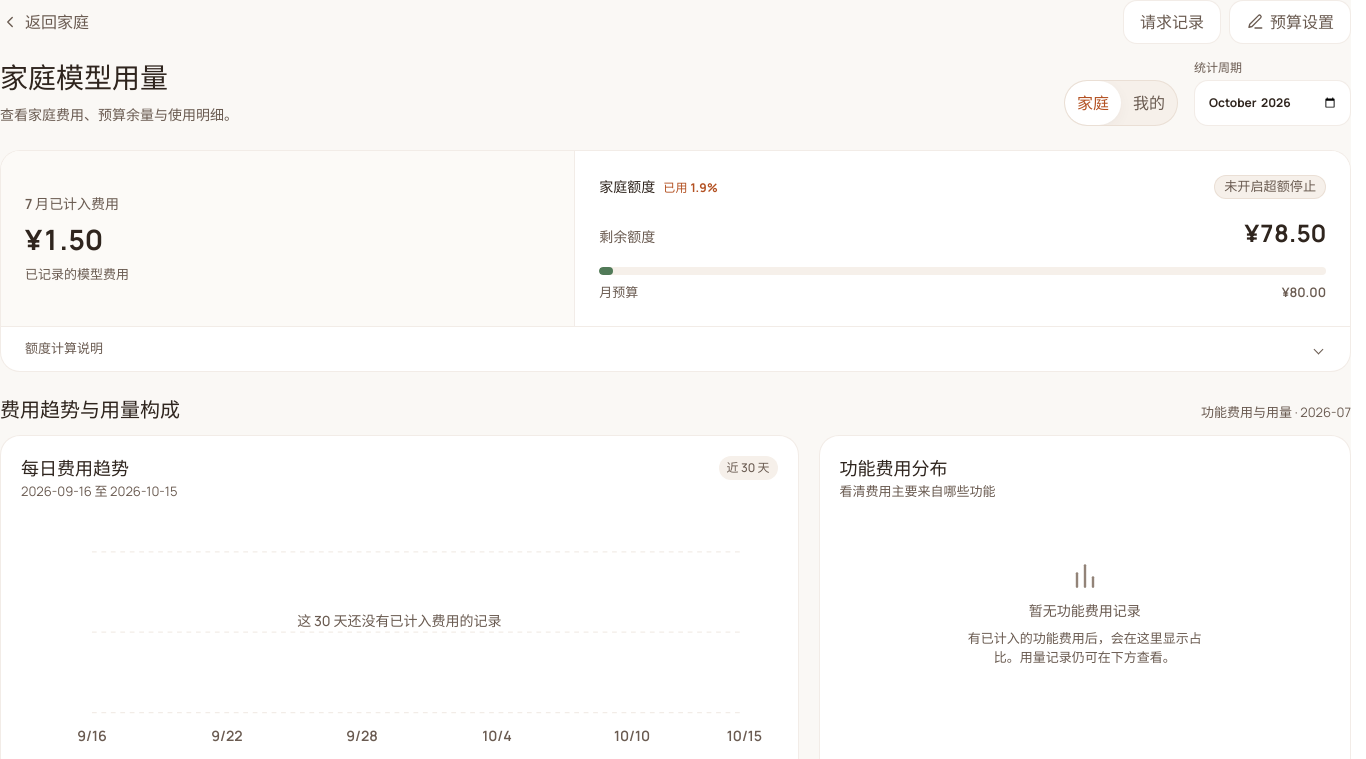
Test: ModelUsagePolicySettings › keeps the settings surface recoverable when the policy query fails
Check: the heading "家庭模型用量" is shown, box [0,58,168,96]
Click the button "预算设置" at (1290, 22), box [1229,0,1351,44]
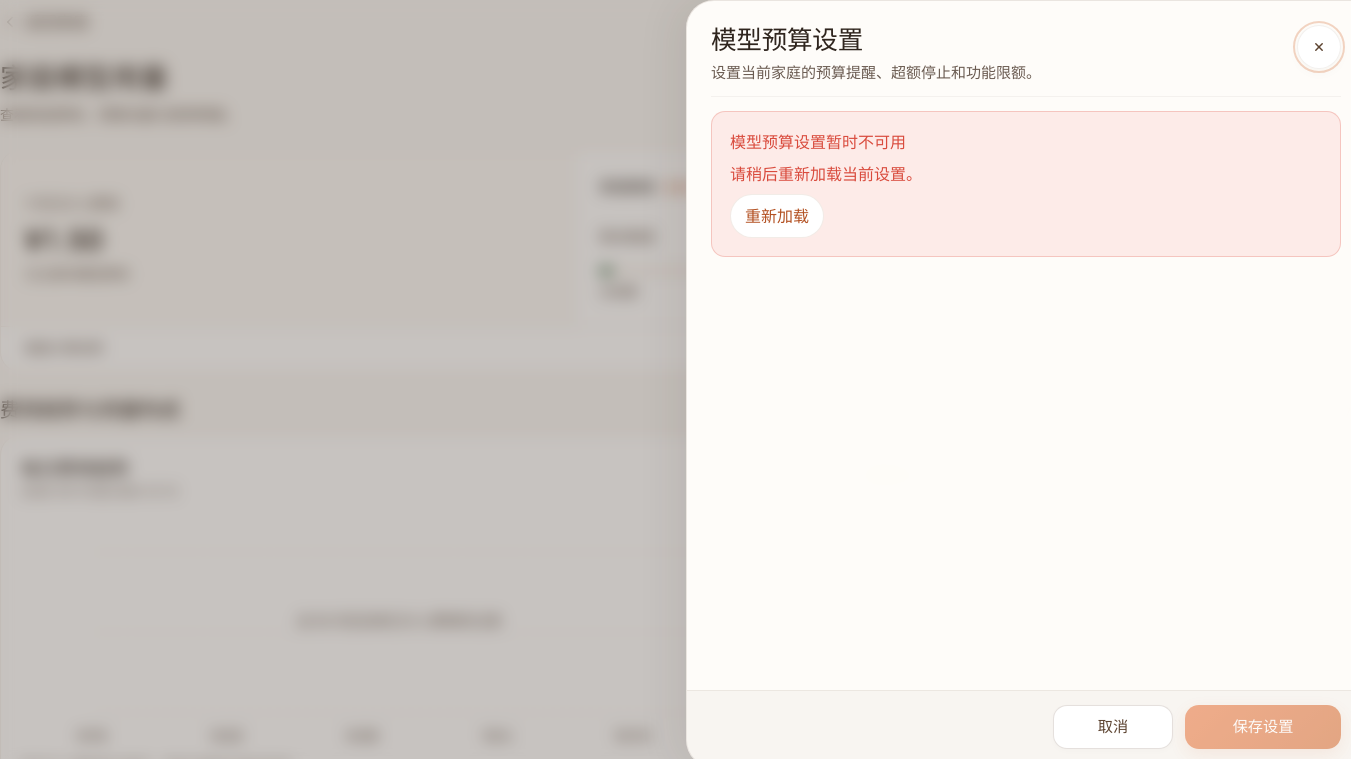
Check: the text "模型预算设置暂时不可用" is shown, box [730,131,906,153]
Click the button "重新加载" at (777, 216), box [730,194,824,238]
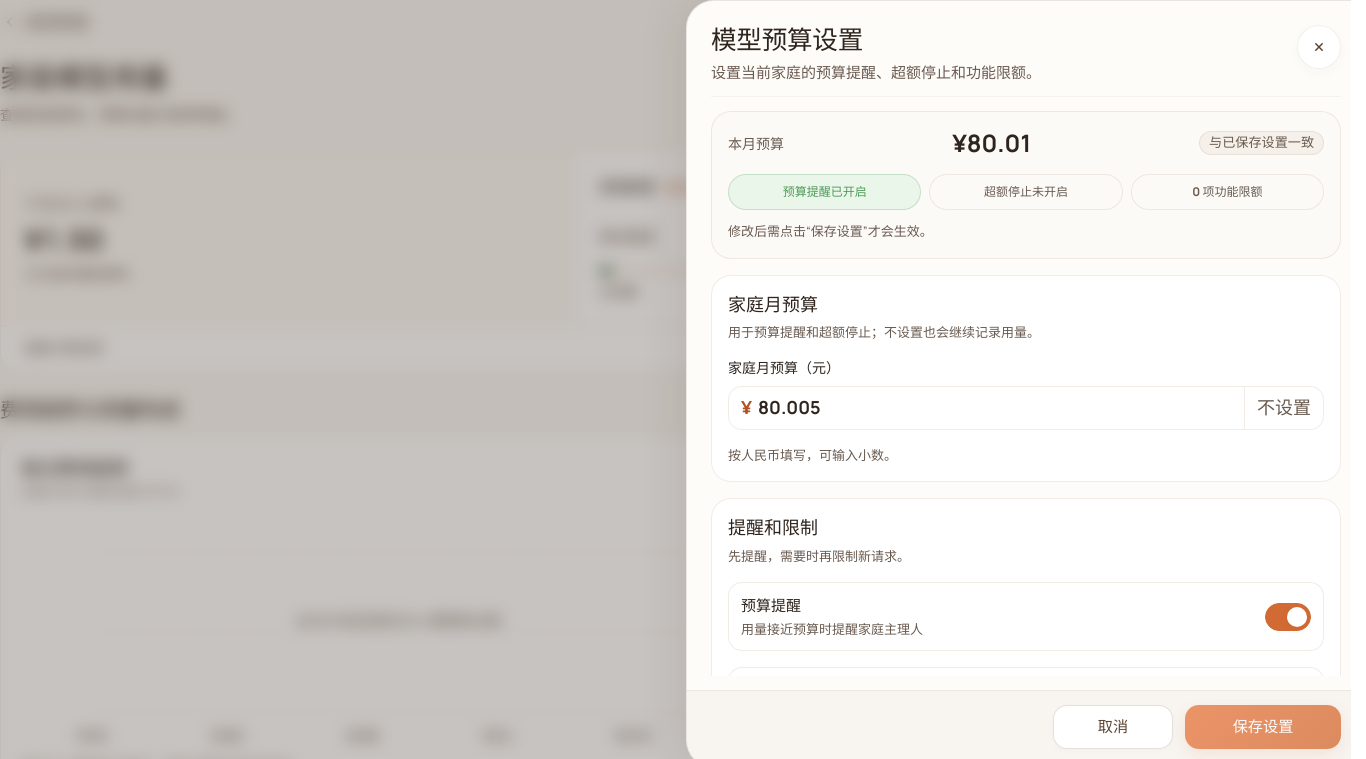
Check: the field labelled "家庭月预算（元）" holds "80.005", box [758,387,1238,429]
